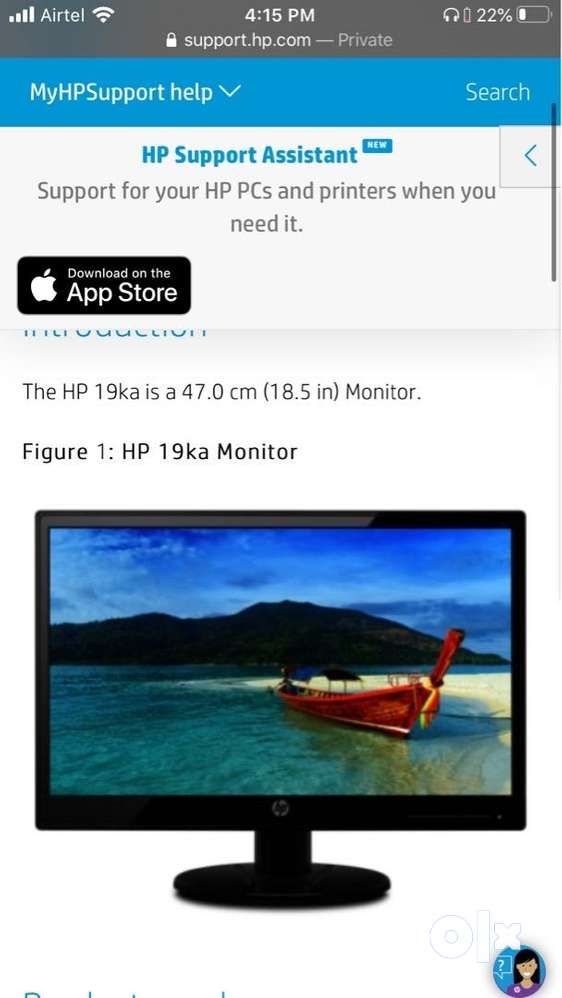hp-monitor-19ka: (28, 497, 531, 926)
